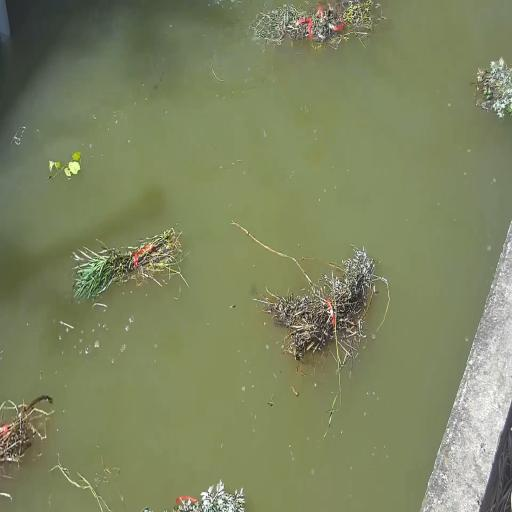twig: (272, 234, 378, 368), (58, 228, 183, 301), (251, 0, 379, 54), (0, 382, 49, 473), (160, 479, 246, 512), (469, 62, 512, 128), (42, 152, 92, 195)
